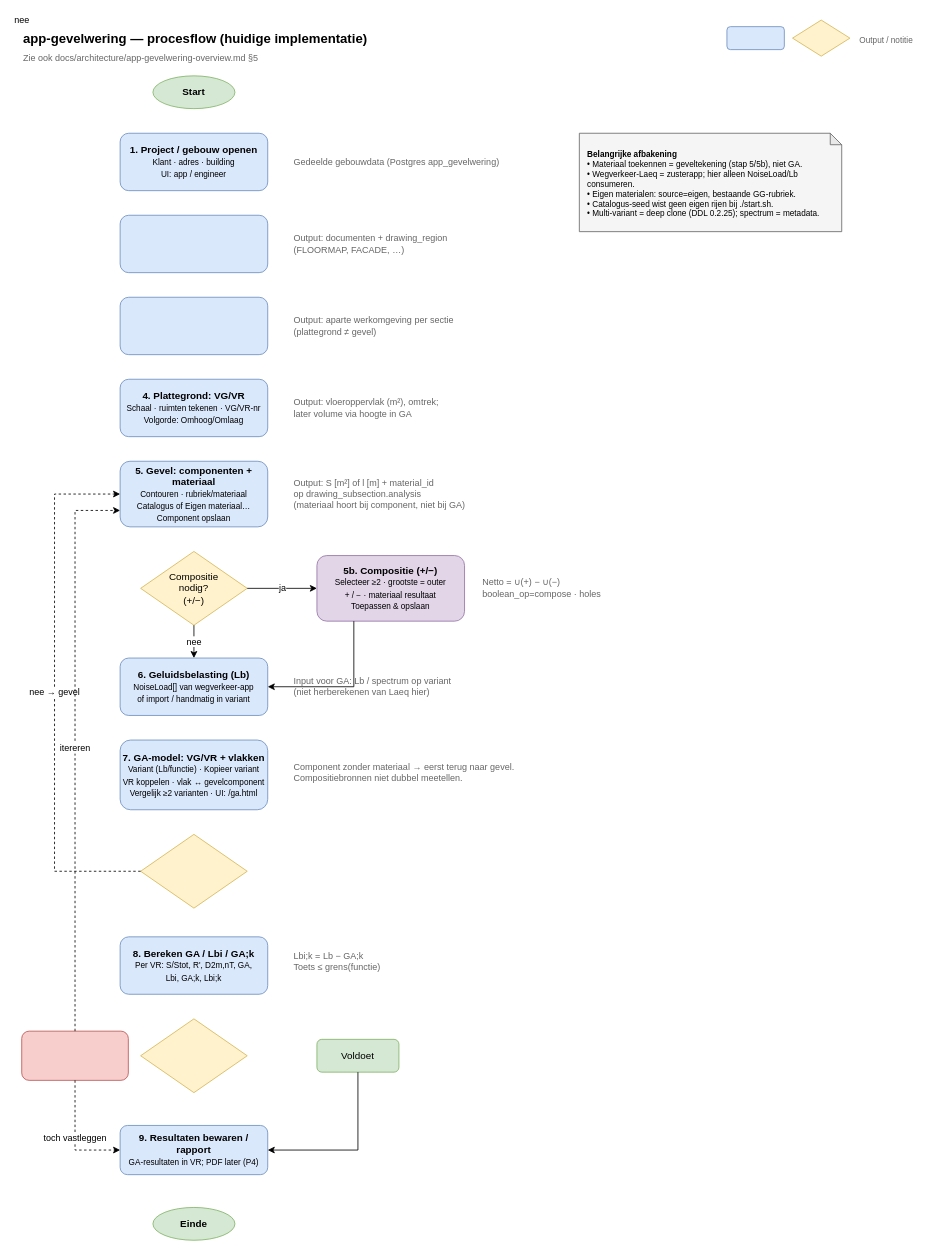
Some shapes in this 945 by 1255 pixel diagram are drawn without their labels. Each missing label, with the centre of its shape:
2. Tekeningen + review Upload PDF/DWG · crop regio's UI: /engineer.html: the point at 193,243
3. Gebouwweergaven kiezen Plattegrond- en gevelsecties openen UI: /floormap.html: the point at 193,325
Alle vlakken hebben materiaal?: the point at 193,871
Keuze: the point at 821,37
Lbi;k ≤ 33 dB? (toets): the point at 193,1055
Stap: the point at 755,38
Voldoet niet → aanpassen materiaal / compositie / Lb: the point at 74,1055
